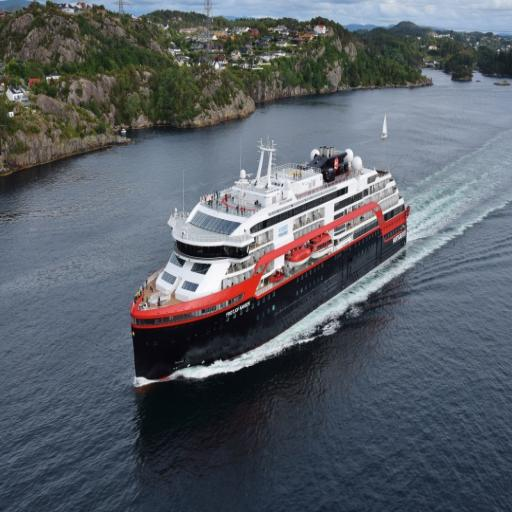cruises: (127, 135, 413, 390)
